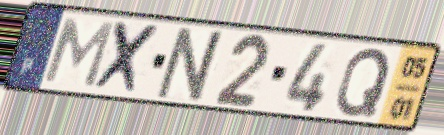2: (213, 31, 274, 111)
4: (284, 41, 329, 114)
M: (40, 16, 118, 91)
N: (152, 25, 231, 105)
Q: (333, 46, 394, 119)
X: (89, 19, 166, 98)
